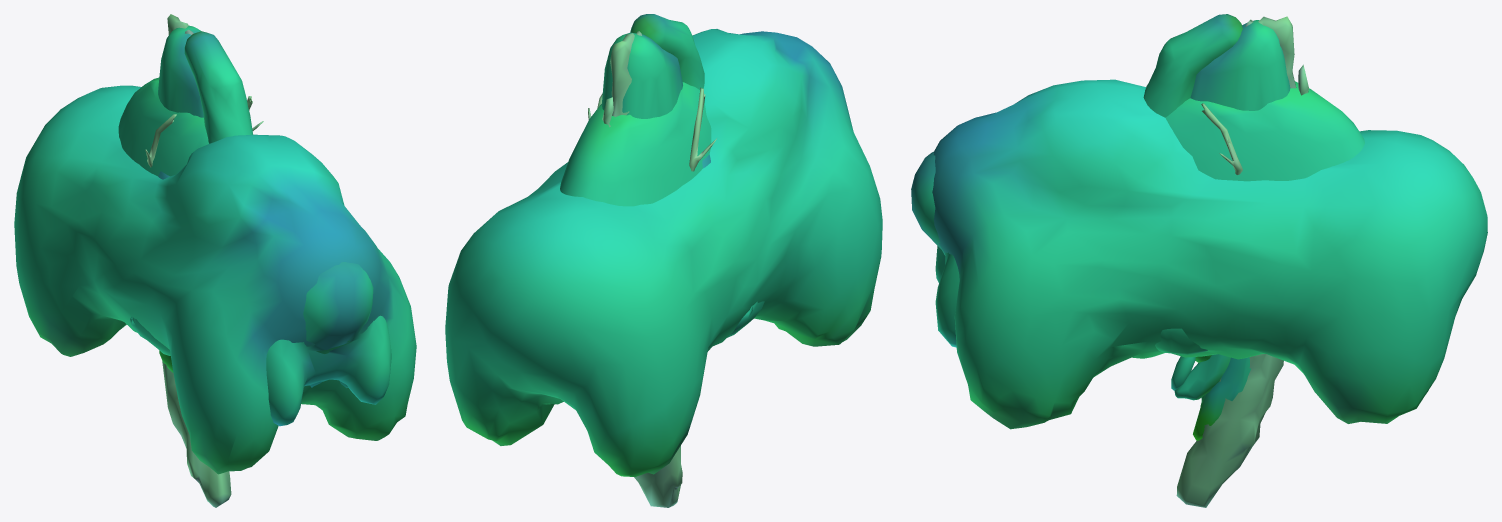
The model's file is animals.glb.
3 views of the same model, side by side, from view 1: azimuth 30°, elevation 25°; view 2: azimuth 150°, elevation 25°; view 3: azimuth 270°, elevation 25° (orthographic). The views are drawn at different scales.
Visible parts, largest first — view 1: q_bear_spine, q_horse_spine, q_camel_spine, q_camel_neck, q_horse_neck, q_horse_tail, q_deer_head; view 2: q_bear_spine, q_camel_spine, q_horse_neck, q_camel_neck, q_horse_tail, q_deer_head; view 3: q_bear_spine, q_camel_spine, q_horse_neck, q_horse_tail, q_camel_neck, q_horse_spine, q_wolf_tail, q_dog_tail, q_bear_head.
Boxes of the visible parts, x1,y1,x2,y2 form: q_bear_spine: [14, 85, 416, 474]; q_horse_spine: [266, 262, 391, 426]; q_camel_spine: [118, 77, 348, 387]; q_camel_neck: [184, 31, 253, 143]; q_horse_neck: [158, 14, 203, 117]; q_horse_tail: [162, 361, 231, 507]; q_deer_head: [145, 96, 263, 167]; q_bear_spine: [445, 29, 882, 476]; q_camel_spine: [560, 82, 711, 206]; q_horse_neck: [601, 31, 682, 127]; q_camel_neck: [630, 14, 704, 89]; q_horse_tail: [634, 446, 682, 507]; q_deer_head: [588, 87, 716, 171]; q_bear_spine: [932, 79, 1487, 429]; q_camel_spine: [1165, 81, 1364, 181]; q_horse_neck: [1190, 16, 1308, 110]; q_horse_tail: [1176, 354, 1283, 507]; q_camel_neck: [1143, 14, 1242, 117]; q_horse_spine: [911, 151, 959, 347]; q_wolf_tail: [1193, 357, 1250, 440]; q_dog_tail: [1174, 354, 1230, 400]; q_bear_head: [1155, 328, 1207, 354].
Bounding box in the file's own units: 0.4651 × 0.9403 × 1.
